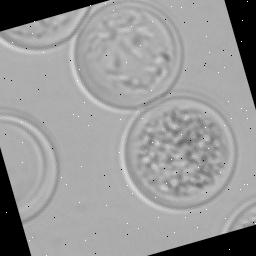picoshell: (118, 92, 237, 213), (69, 0, 182, 113), (0, 110, 59, 225), (0, 5, 91, 55), (220, 199, 256, 235)
